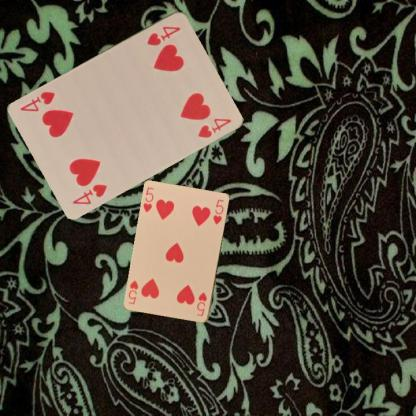4h: (70, 181, 109, 206), (144, 23, 182, 47)
5h: (140, 185, 155, 214), (194, 290, 208, 318)
